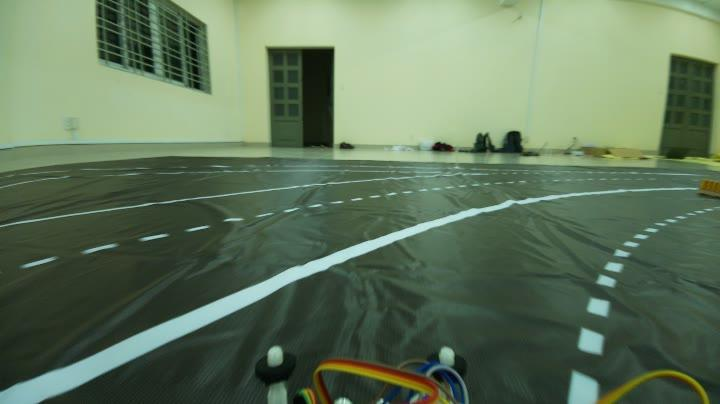roadblock: (694, 174, 720, 200)
